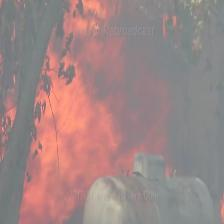fire: (0, 0, 183, 224)
